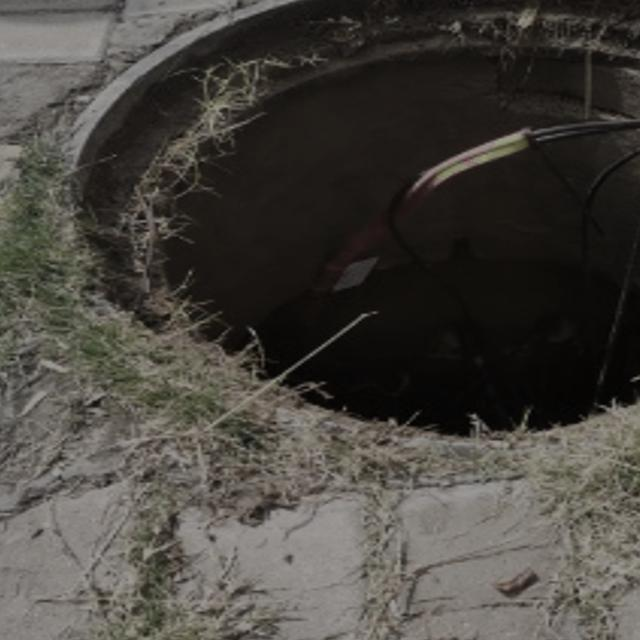lose: (53, 0, 640, 454)
